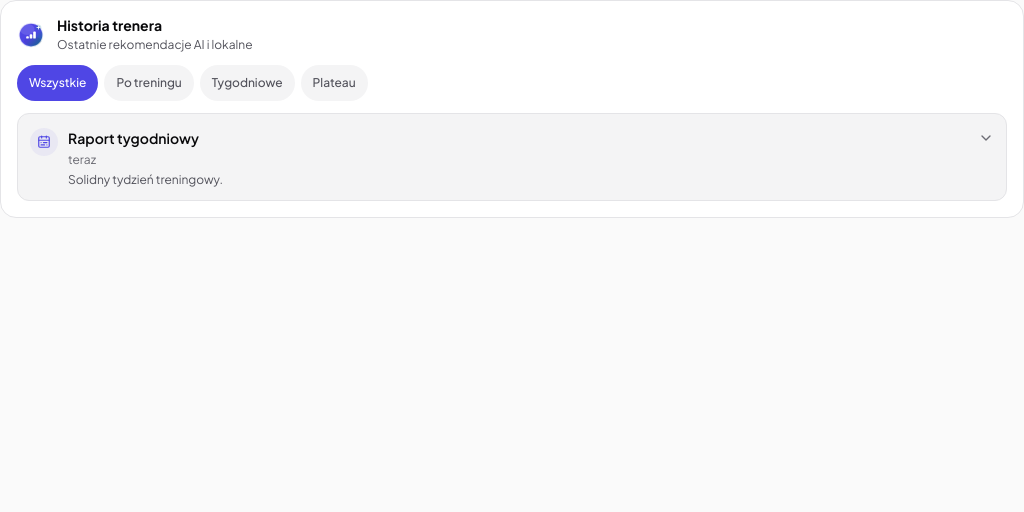
Test: AiCoachHistory › shows a collapsed preview and expands to structured sections
Check: the text "Solidny tydzień treningowy." is shown, box [68,172,223,186]
Check: the text "Regularność" is not shown
// Expand → parsed sections appear with labels
Click the text "Raport tygodniowy". click: click(133, 138)
box: [68,128,199,146]
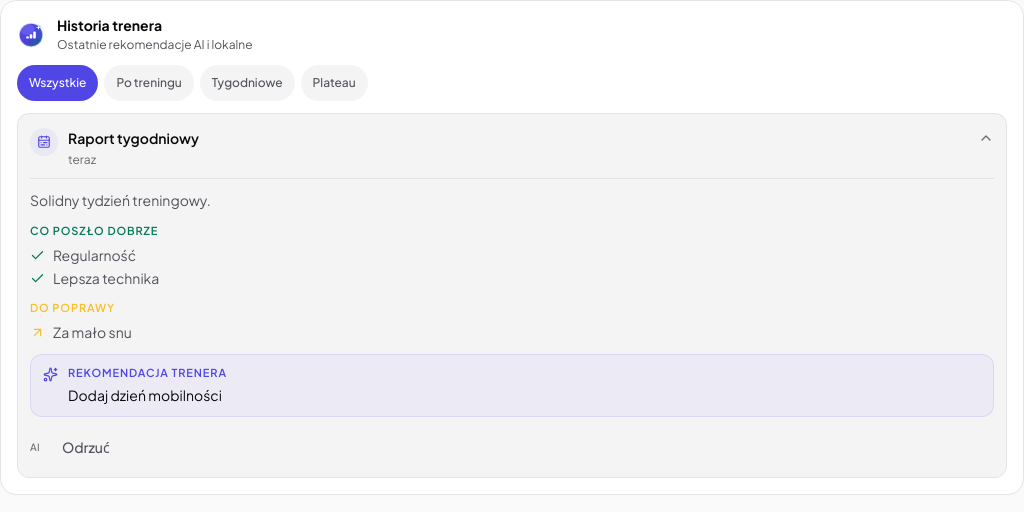
Check: the text "Regularność" is shown, box [53,246,136,265]
Check: the text "Lepsza technika" is shown, box [53,269,159,288]
Check: the text "Za mało snu" is shown, box [53,323,132,342]
